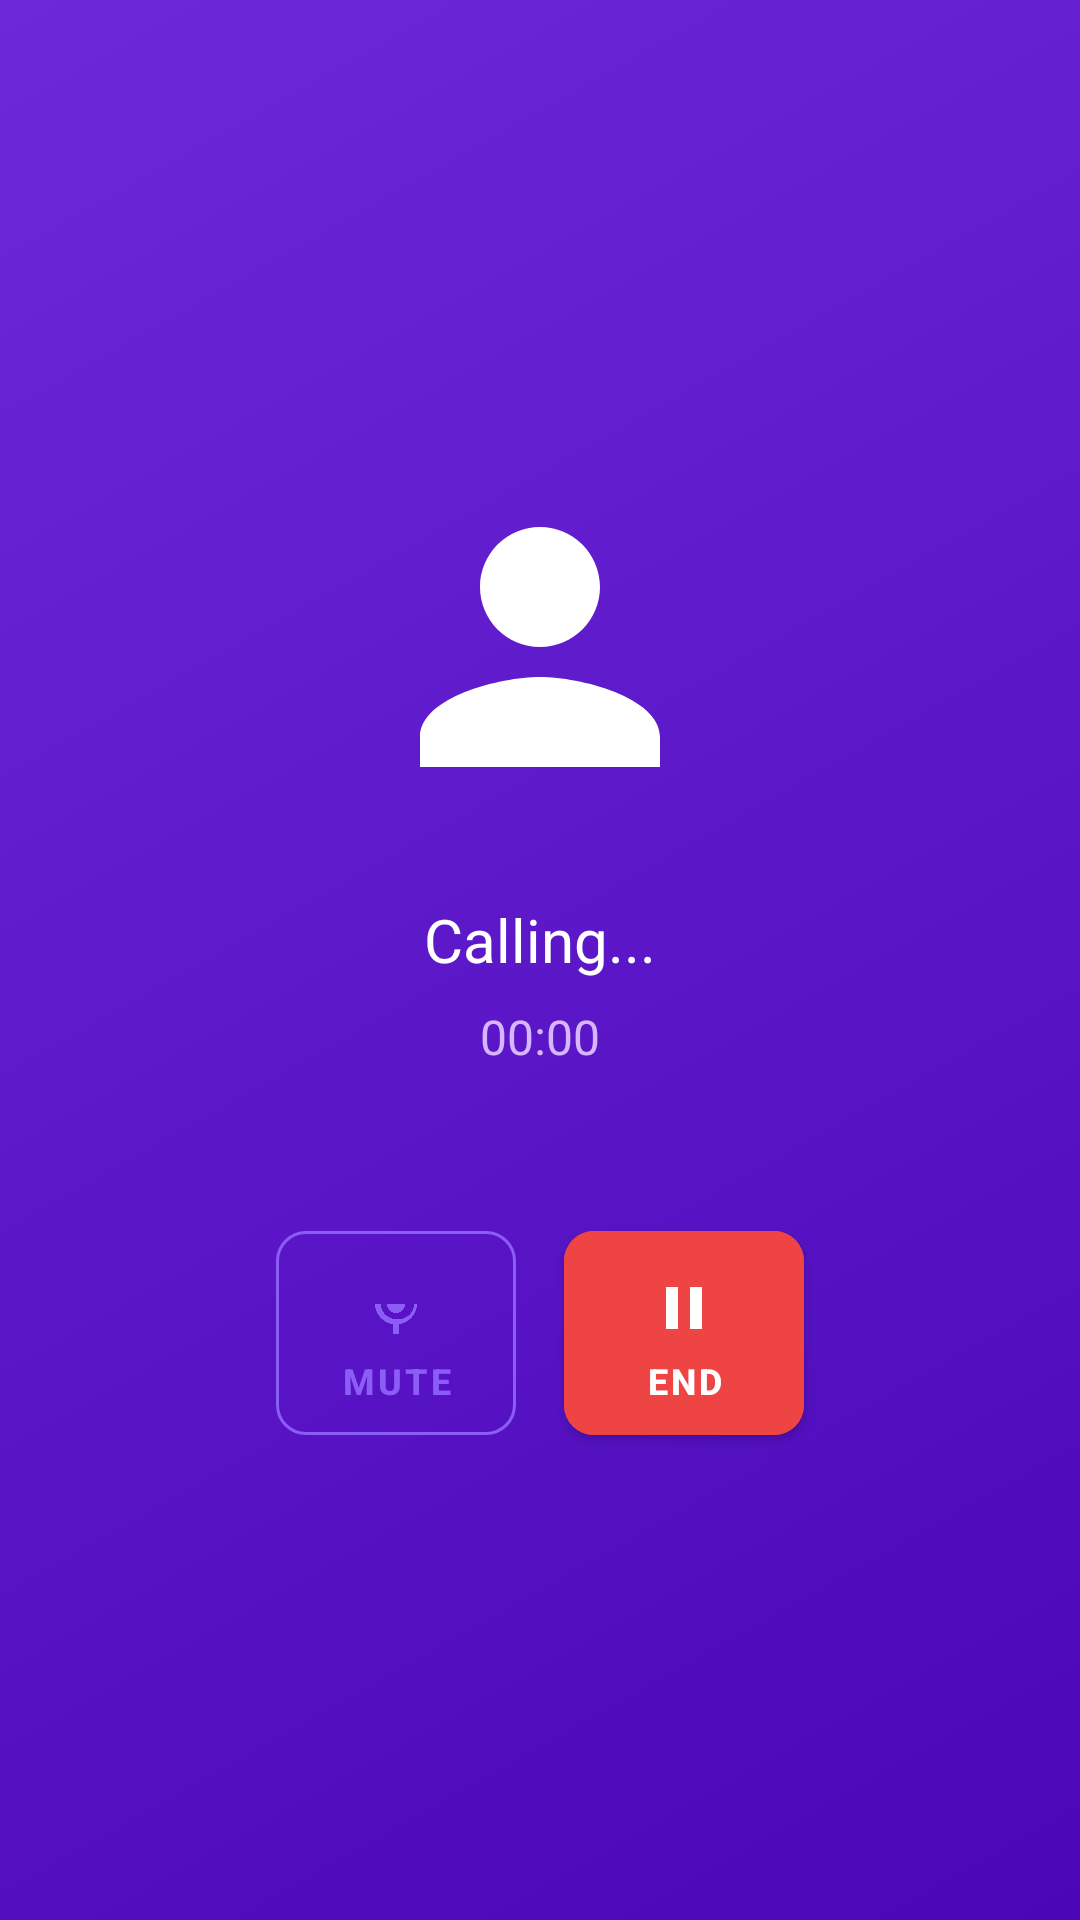

Icons on this 1080 x 1920 Android screen, each with its box as box(x1, y1, x2, y2):
person: box(420, 527, 660, 767)
